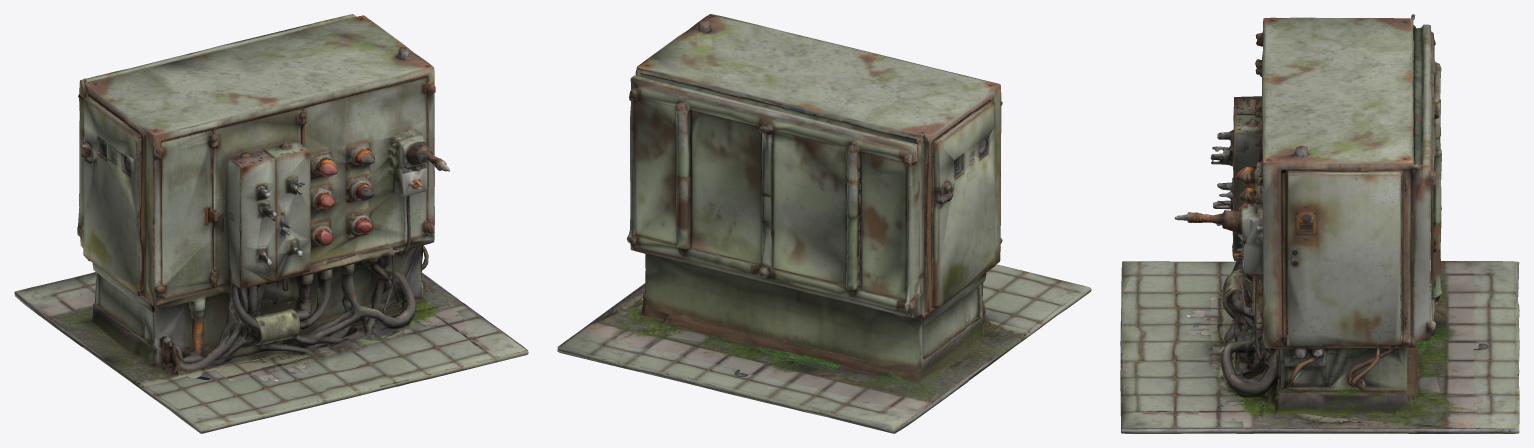
Rendered from generator.glb.
The picture shows the model from 3 angles, left to right: view 1: azimuth 30°, elevation 25°; view 2: azimuth 150°, elevation 25°; view 3: azimuth 270°, elevation 25°; orthographic projection. The views are drawn at different scales.
Parts seen in each view (by area): view 1: generator; view 2: generator; view 3: generator.
Boxes of the visible parts, bbox=[...] form: generator: bbox=[14, 14, 528, 433]; generator: bbox=[557, 14, 1091, 433]; generator: bbox=[1120, 14, 1519, 433].
Bounding box in the file's own units: 2.01 × 1.48 × 2.01.
Materials: 1 (1 with a texture image).
